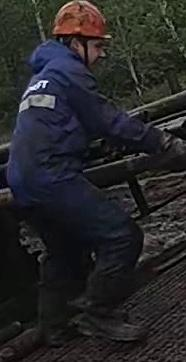helmet: (50, 0, 112, 49)
vest: (6, 40, 104, 206)
